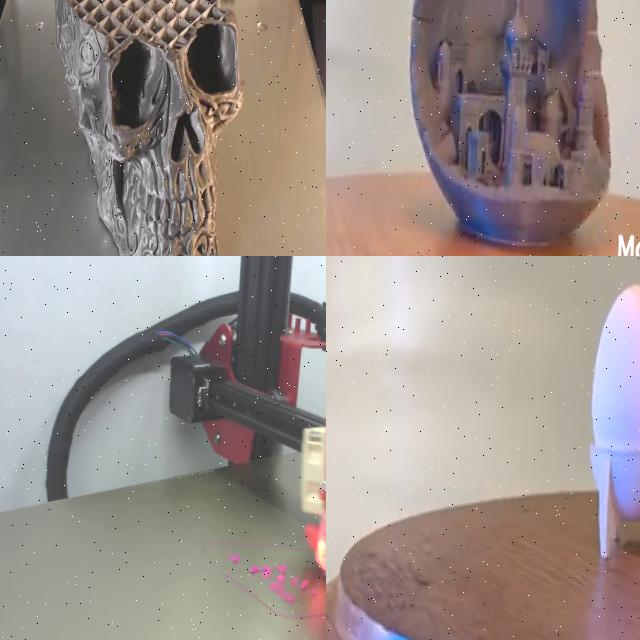spaghetti: (226, 571, 326, 619), (269, 564, 295, 602), (248, 564, 272, 579), (290, 576, 309, 589), (227, 554, 238, 563)
